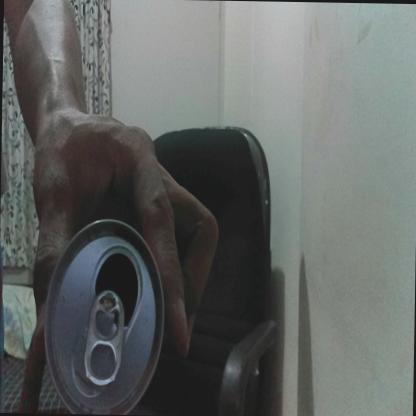alumunium_can: (41, 215, 166, 415)
